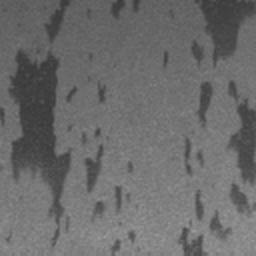Red iron sheet: (0, 0, 140, 250), (177, 0, 256, 256), (90, 186, 133, 225), (180, 136, 206, 175), (110, 229, 136, 256), (96, 81, 108, 102), (161, 51, 170, 68), (125, 161, 134, 174), (3, 233, 13, 243)
